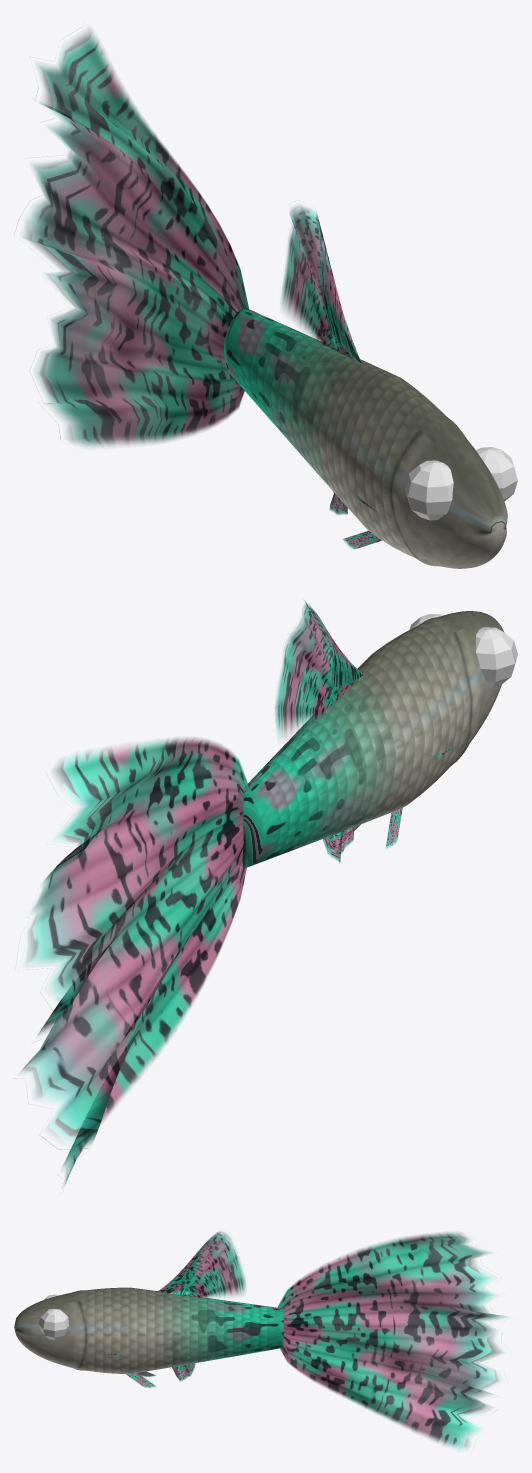
The model's file is guppy-5.glb.
The picture shows the model from 3 angles, top to bottom: view 1: azimuth 30°, elevation 25°; view 2: azimuth 150°, elevation 25°; view 3: azimuth 270°, elevation 25°; orthographic projection. The views are drawn at different scales.
Visible parts, largest first — view 1: Fins, Body, EyeL, EyeR; view 2: Fins, Body, EyeL; view 3: Fins, Body, EyeR.
Part boxes in pixels (left/top/right/bottom): Fins: left=14, top=31, right=381, bottom=549; Body: left=224, top=308, right=507, bottom=568; EyeL: left=404, top=460, right=453, bottom=520; EyeR: left=476, top=447, right=517, bottom=501; Fins: left=14, top=600, right=402, bottom=1184; Body: left=241, top=611, right=504, bottom=867; EyeL: left=476, top=627, right=517, bottom=687; Fins: left=126, top=1231, right=505, bottom=1449; Body: left=14, top=1287, right=283, bottom=1373; EyeR: left=38, top=1308, right=68, bottom=1340.
Bounding box in the file's own units: 0.0866 × 0.34 × 0.6704.
2 materials, 2 textured.
